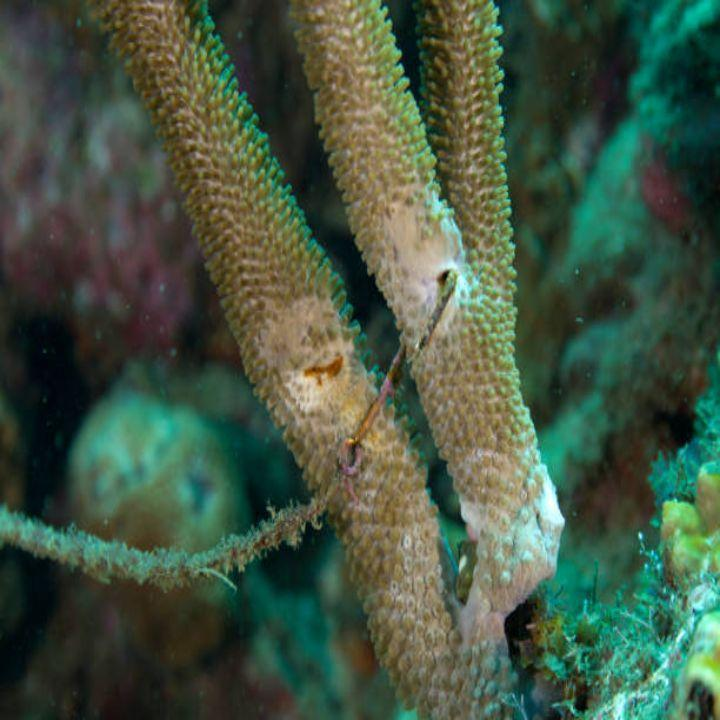Band disease: (227, 182, 553, 480), (350, 407, 604, 700)
